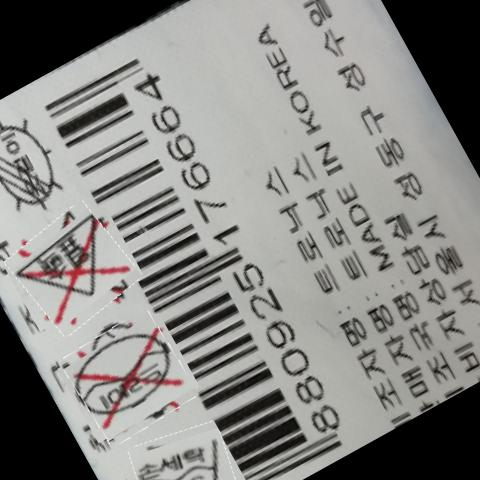DN_dry_clean: (76, 326, 172, 424)
hand_wash: (134, 433, 219, 480)
line_dry_in_shade: (1, 119, 59, 209)
non_chlorine_bleach: (18, 218, 112, 311)
